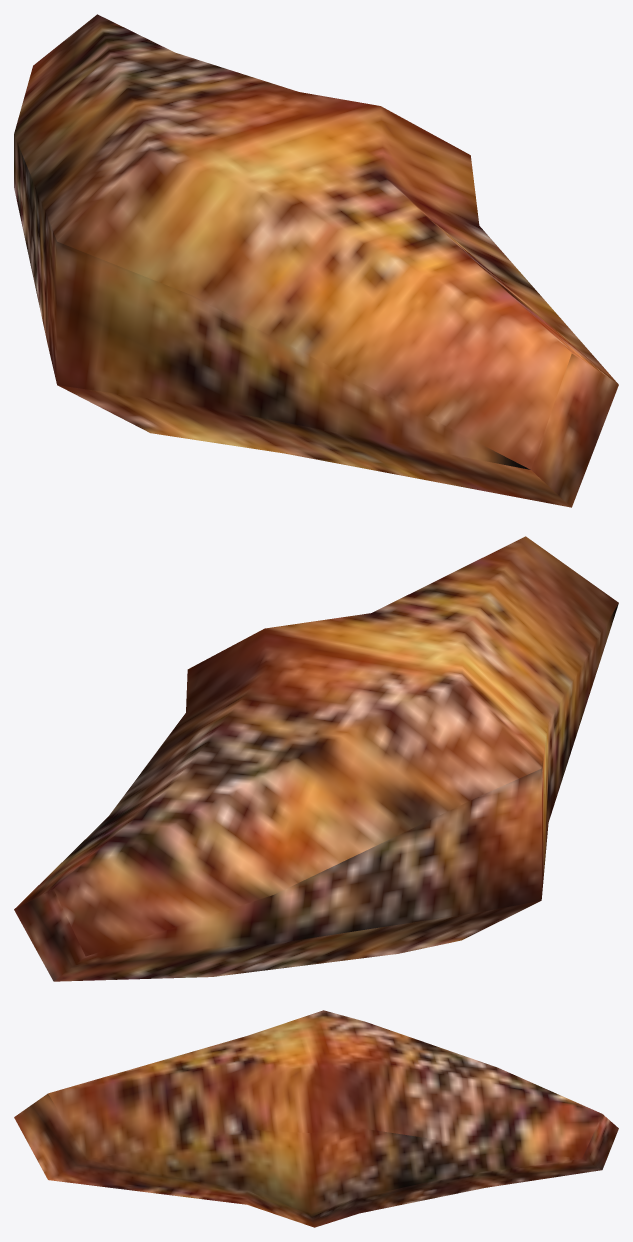
The model's file is Bread_01.fbx.
3 views of the same model, one above another, from view 1: azimuth 30°, elevation 25°; view 2: azimuth 150°, elevation 25°; view 3: azimuth 270°, elevation 25° (orthographic). The views are drawn at different scales.
Visible parts, largest first — view 1: Bread_01; view 2: Bread_01; view 3: Bread_01.
Part boxes in pixels (x1,y1,x2,y2): Bread_01: (14, 14, 618, 507); Bread_01: (14, 536, 618, 981); Bread_01: (14, 1010, 618, 1227).
Size of the model in its own units: 8.03 by 5.36 by 18.78.
